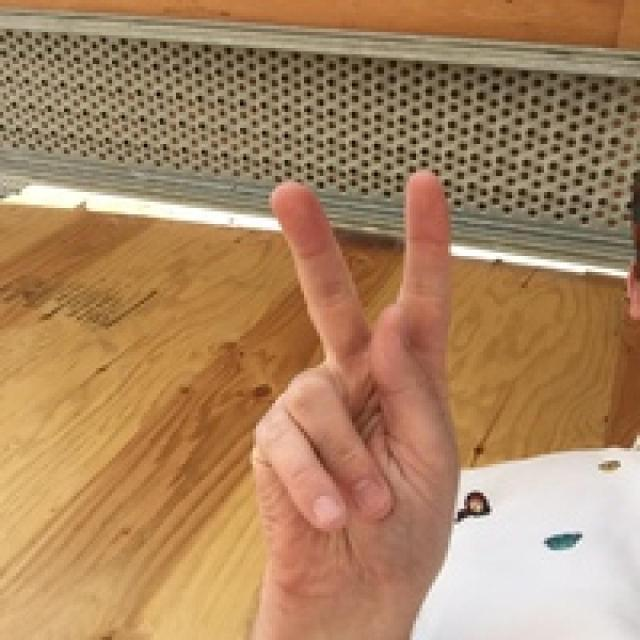K: (185, 125, 561, 640)
